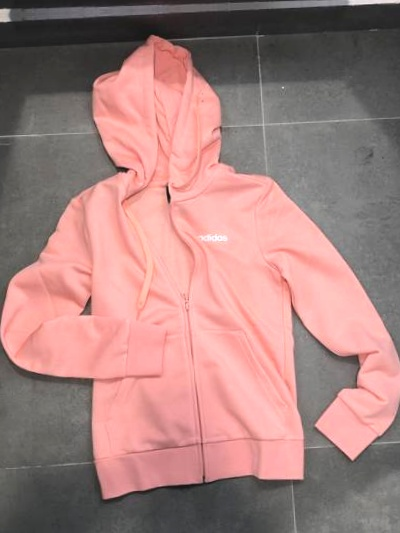Hoodie: (8, 22, 400, 528)
